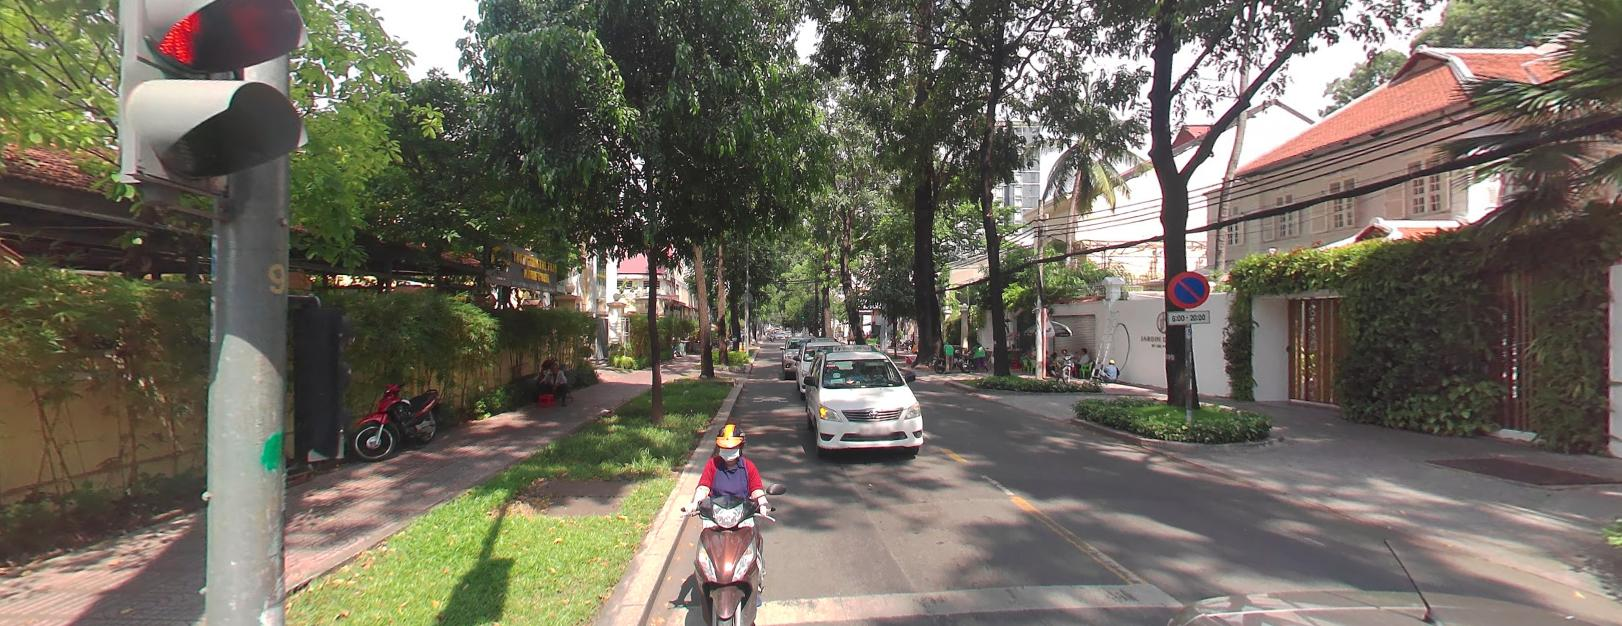Cam dung va do: (1166, 269, 1213, 308)
